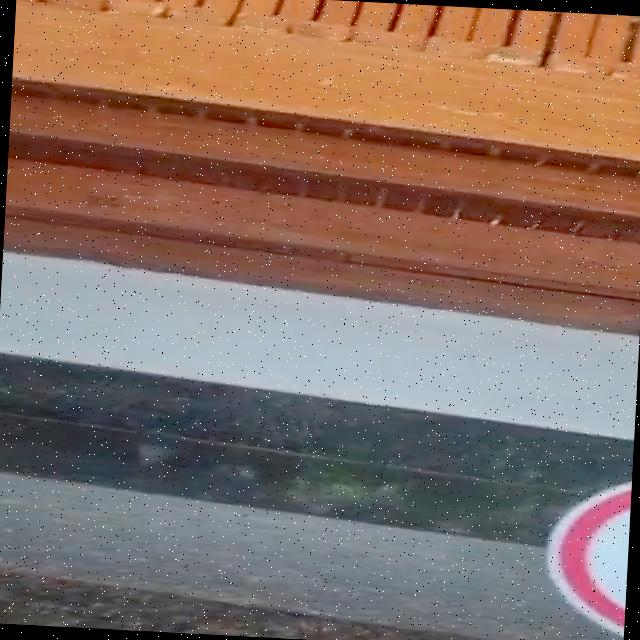Speed20: (521, 450, 633, 640)
